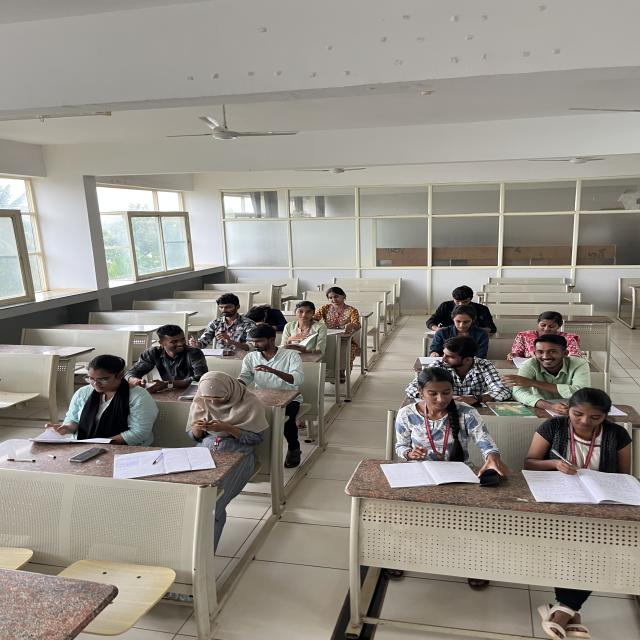Reading: (24, 352, 163, 444), (368, 369, 476, 486), (498, 305, 592, 368), (320, 290, 376, 340)
Sleeping: (240, 284, 293, 332)
Using Phone: (179, 369, 270, 445)
Writing: (517, 385, 640, 505), (182, 292, 258, 356)
